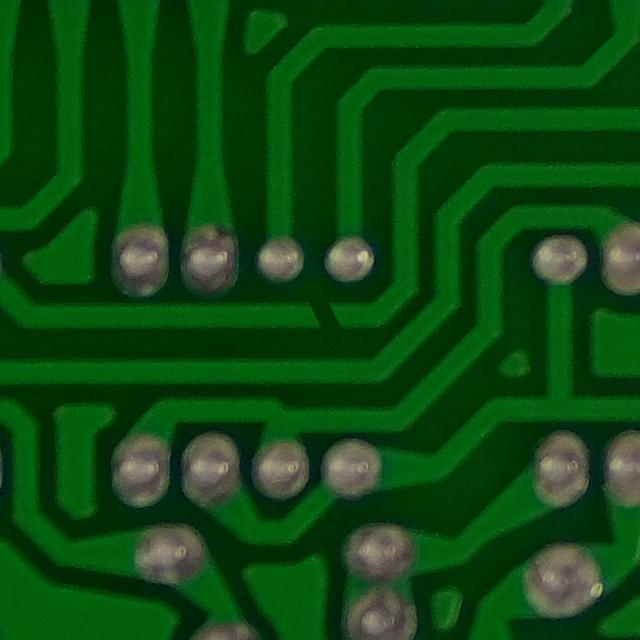open_circuit: (295, 292, 346, 347)
